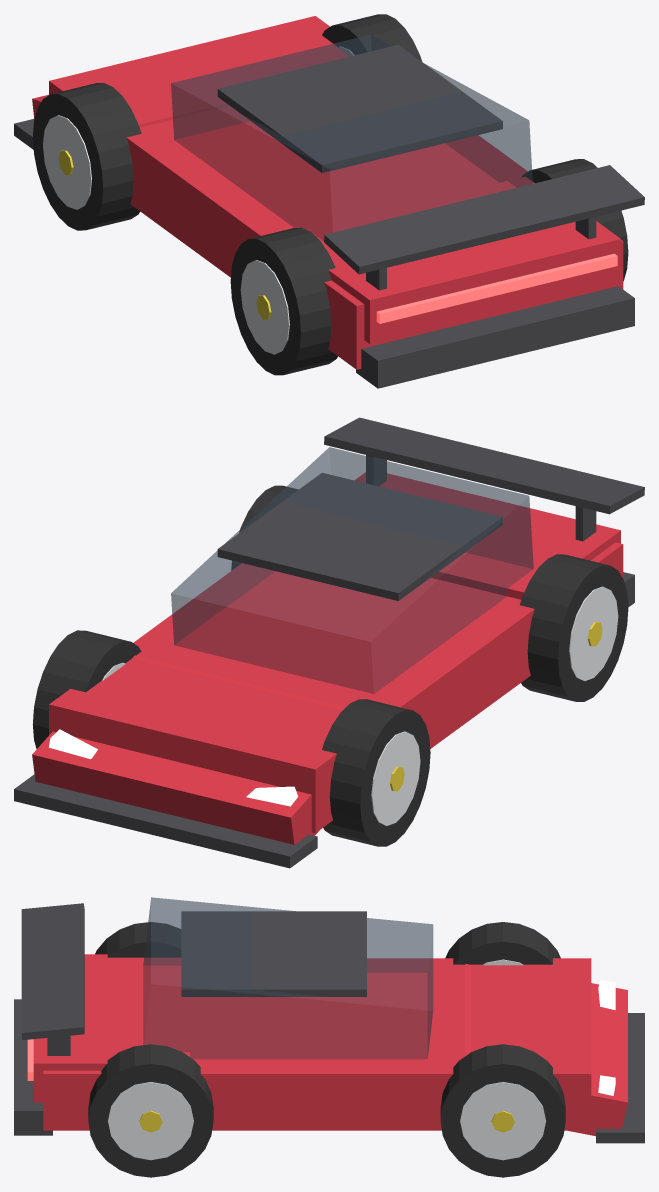
Rendered from sports_car.glb.
3 renders of one model, top to bottom at view 1: azimuth 30°, elevation 25°; view 2: azimuth 150°, elevation 25°; view 3: azimuth 270°, elevation 25°, orthographic. The views are drawn at different scales.
Visible parts, largest first — view 1: Cube, Cube.003, Cube.004, Cube.005, Cube.009, Cube.006, Tire_FL, Tire_RL, Cube.012, Rim_RL, Rim_FL, Tire_FR (+1 smaller); view 2: Cube, Cube.003, Cube.004, Cube.001, Cube.009, Cube.005, Tire_FL, Tire_RL, Cube.002, Tire_FR, Rim_RL, Rim_FL (+4 smaller); view 3: Cube, Cube.003, Cube.004, Cube.005, Cube.009, Tire_FR, Tire_RR, Cube.001, Rim_FR, Rim_RR, Tire_FL, Cube.002 (+4 smaller).
Part boxes in pixels (<box>): Cube: <box>49,16,623,369</box>; Cube.003: <box>171,34,532,240</box>; Cube.004: <box>217,44,502,172</box>; Cube.005: <box>307,177,620,343</box>; Cube.009: <box>324,165,644,274</box>; Cube.006: <box>356,286,634,388</box>; Tire_FL: <box>32,83,141,230</box>; Tire_RL: <box>230,227,337,375</box>; Cube.012: <box>376,253,617,323</box>; Rim_RL: <box>240,260,289,354</box>; Rim_FL: <box>43,115,91,209</box>; Tire_FR: <box>322,14,422,61</box>; Cube: <box>49,542,623,833</box>; Cube.003: <box>171,447,533,693</box>; Cube.004: <box>217,473,502,600</box>; Cube.001: <box>32,655,345,844</box>; Cube.009: <box>324,417,644,514</box>; Cube.005: <box>355,472,620,599</box>; Tire_FL: <box>322,699,430,846</box>; Tire_RL: <box>520,554,628,701</box>; Cube.002: <box>14,774,317,868</box>; Tire_FR: <box>32,630,141,748</box>; Rim_RL: <box>569,586,618,680</box>; Rim_FL: <box>371,731,420,825</box>; Cube: <box>43,958,591,1130</box>; Cube.003: <box>143,897,433,1058</box>; Cube.004: <box>181,911,366,996</box>; Cube.005: <box>33,954,189,1102</box>; Cube.009: <box>21,903,84,1040</box>; Tire_FR: <box>440,1044,565,1177</box>; Tire_RR: <box>88,1044,213,1177</box>; Cube.001: <box>465,964,627,1136</box>; Rim_FR: <box>460,1082,545,1160</box>; Rim_RR: <box>108,1082,193,1160</box>; Tire_FL: <box>445,922,560,964</box>; Cube.002: <box>596,1013,644,1143</box>.
Bounding box in the file's own units: 1.75 × 0.9346 × 3.23.
